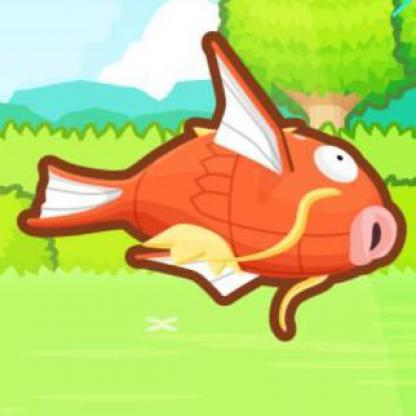Magikarp: (38, 85, 410, 332)
